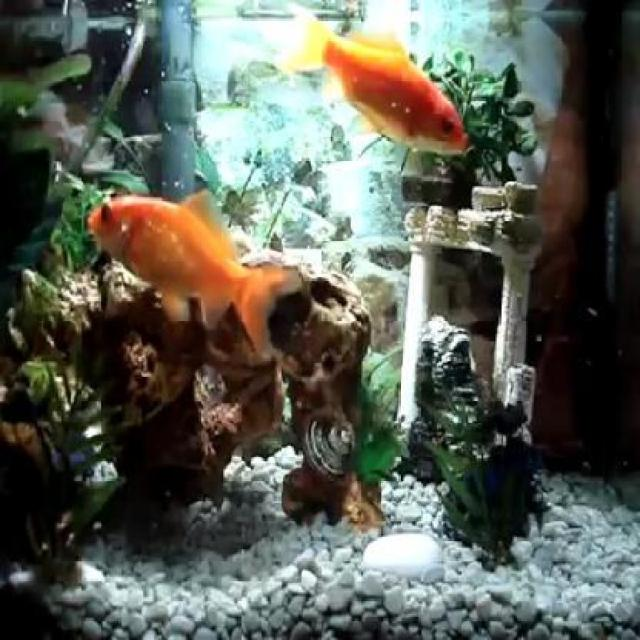GoldFish: (89, 181, 282, 361), (298, 15, 467, 153)
